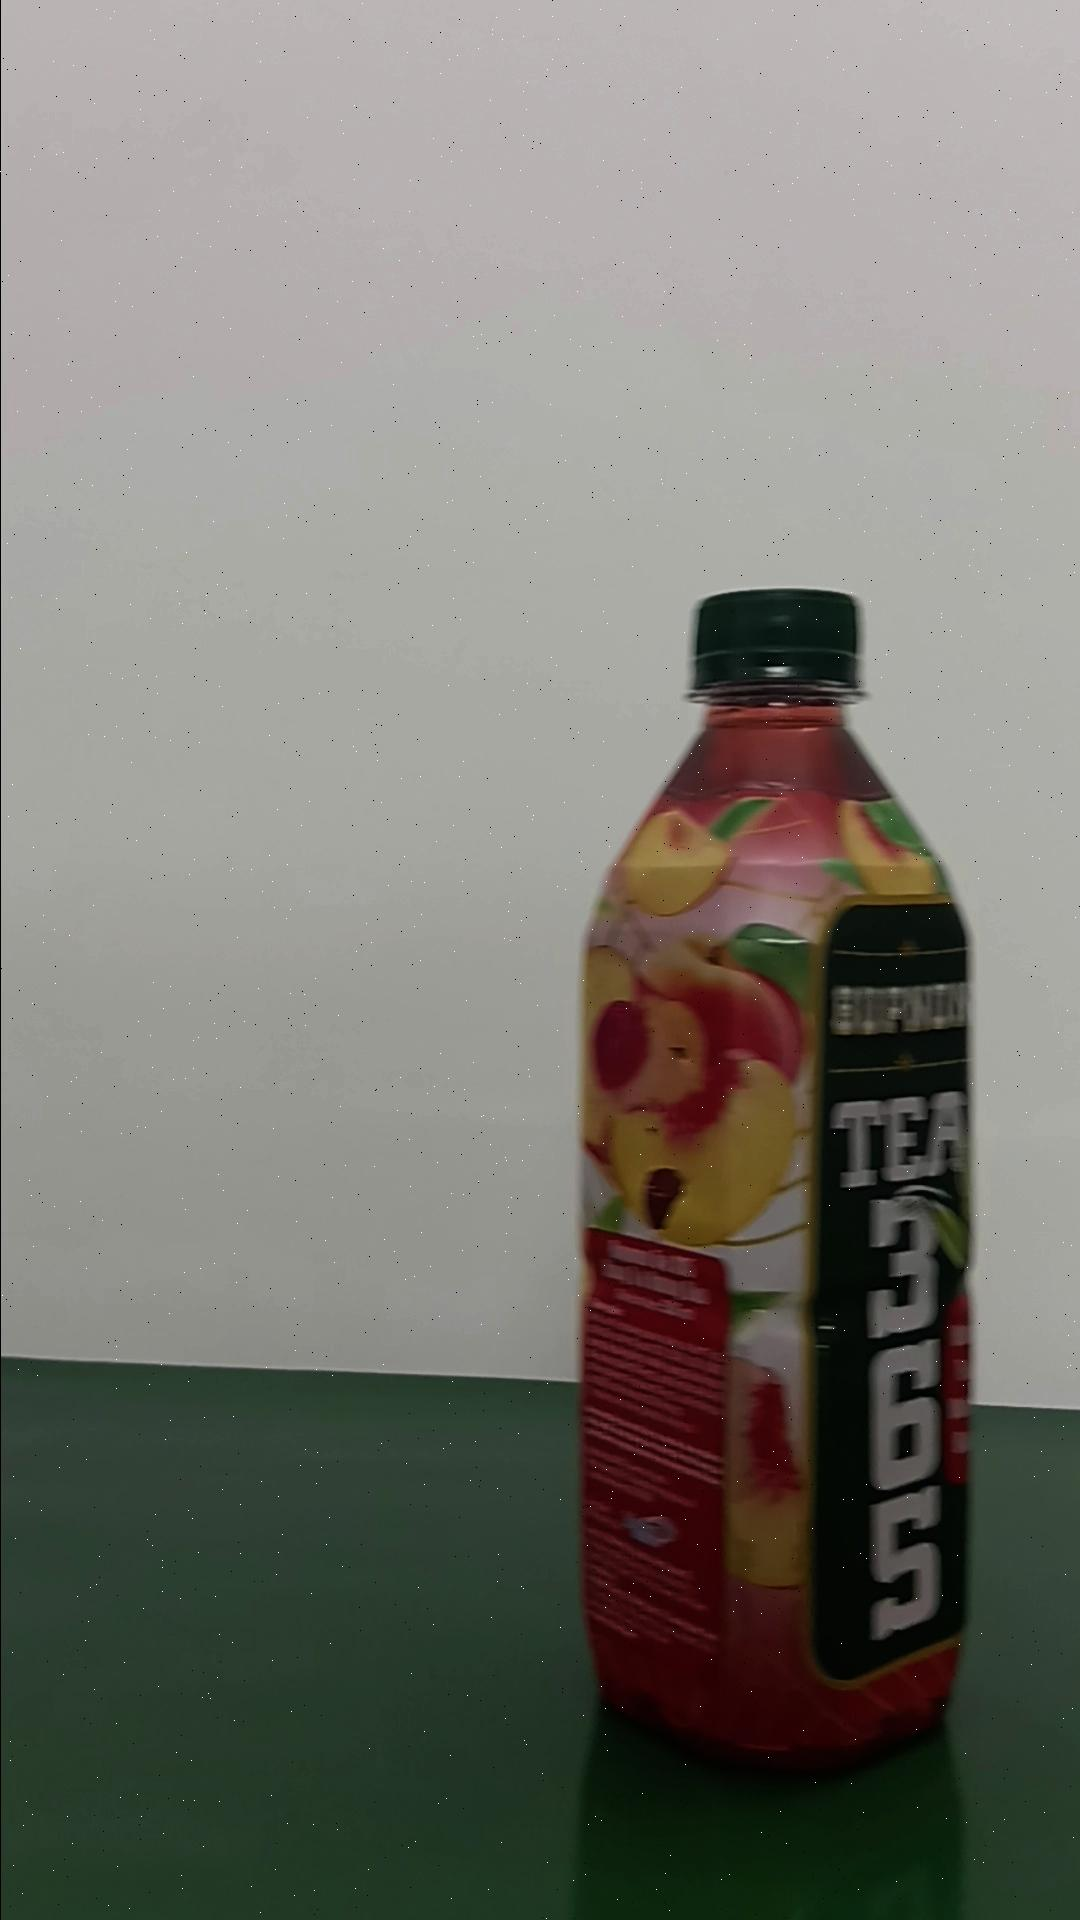loi rach va lap chai: (574, 578, 973, 1785)
